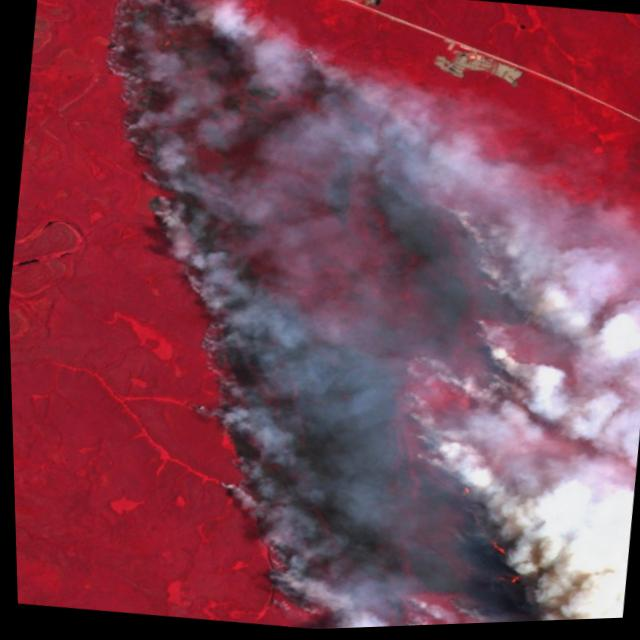fire: (24, 0, 640, 639)
